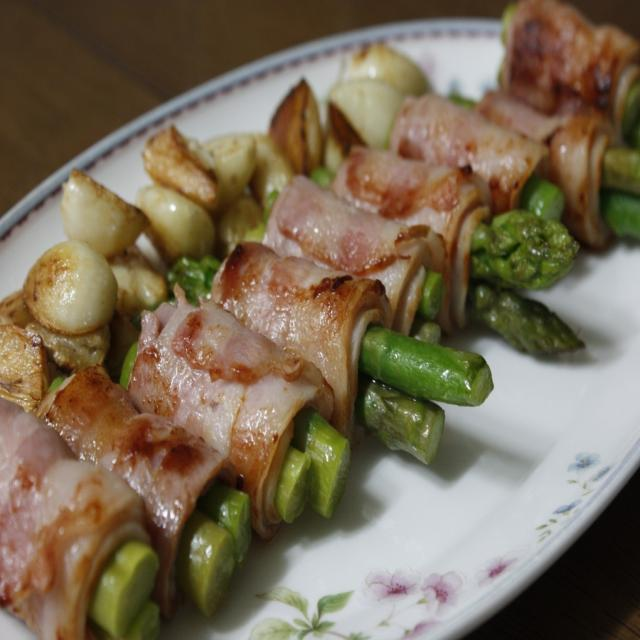Bacon Slice: (0, 1, 640, 638)
